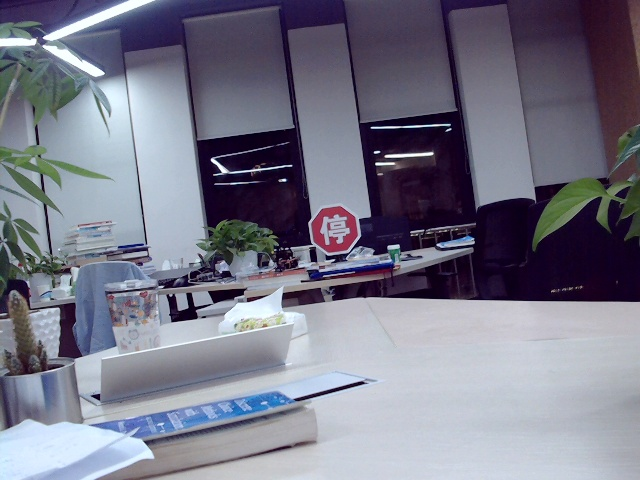stop: (317, 209, 349, 244)
